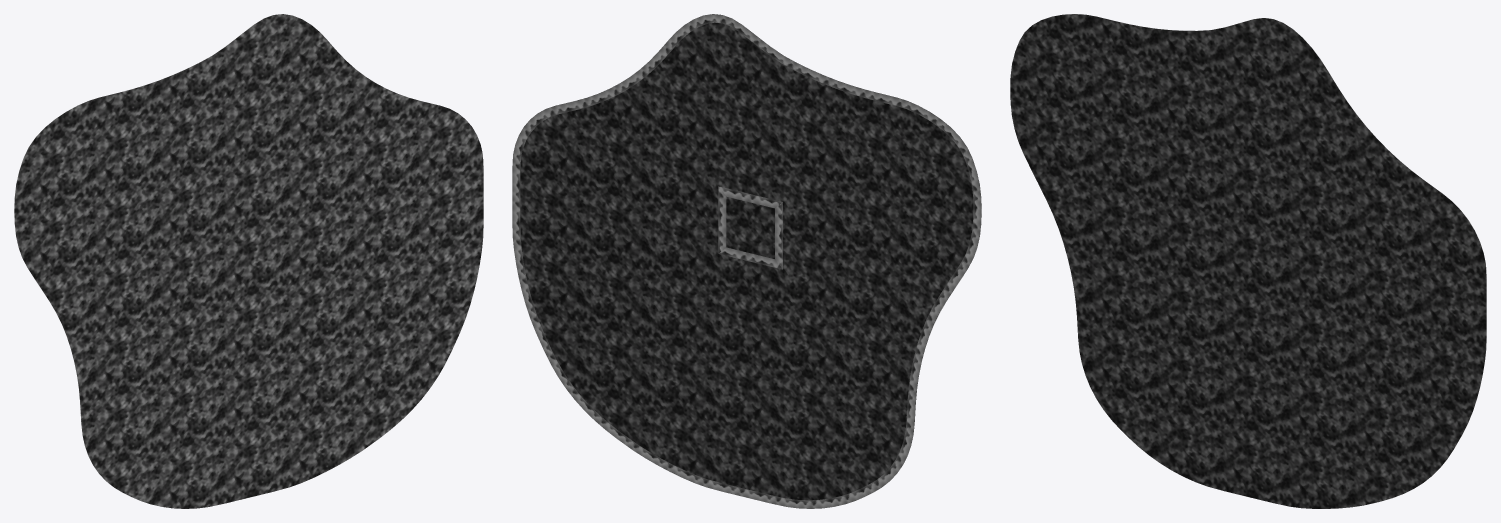
The model's file is PoisonSwamp001.obj.
The picture shows the model from 3 angles, left to right: view 1: azimuth 30°, elevation 25°; view 2: azimuth 150°, elevation 25°; view 3: azimuth 330°, elevation 25°; orthographic projection.
Visible parts, largest first — view 1: polySurface8__GroundPoisonPurple00_rep; view 2: polySurface8__GroundPoisonPurple00_rep, pPlane175__PoisonBaseEdgeOnlyMT; view 3: polySurface8__GroundPoisonPurple00_rep.
Part boxes in pixels (x1,y1,x2,y2): polySurface8__GroundPoisonPurple00_rep: (14, 14, 483, 508); polySurface8__GroundPoisonPurple00_rep: (520, 14, 981, 500); pPlane175__PoisonBaseEdgeOnlyMT: (512, 14, 981, 508); polySurface8__GroundPoisonPurple00_rep: (1010, 14, 1486, 508).
Bounding box in the file's own units: 5806 × 5635 × 3.01.
3 materials, 2 textured.
